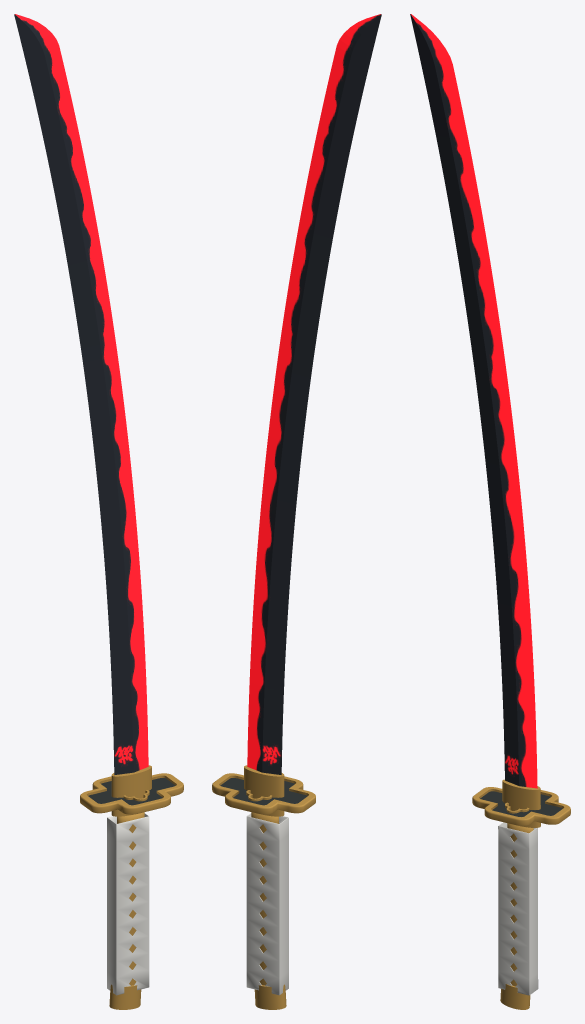
The model's file is RedNichirinKatana.fbx.
3 renders of one model, left to right at view 1: azimuth 30°, elevation 25°; view 2: azimuth 150°, elevation 25°; view 3: azimuth 330°, elevation 25°, orthographic. The views are drawn at different scales.
Visible parts, largest first — view 1: RedNichirinKatana; view 2: RedNichirinKatana; view 3: RedNichirinKatana.
Part boxes in pixels (x1,y1,x2,y2): RedNichirinKatana: (14, 14, 183, 1009); RedNichirinKatana: (212, 14, 381, 1009); RedNichirinKatana: (410, 14, 570, 1009).
Bounding box in the file's own units: 17.62 × 105 × 7.15.
Materials: 1 (1 with a texture image).
